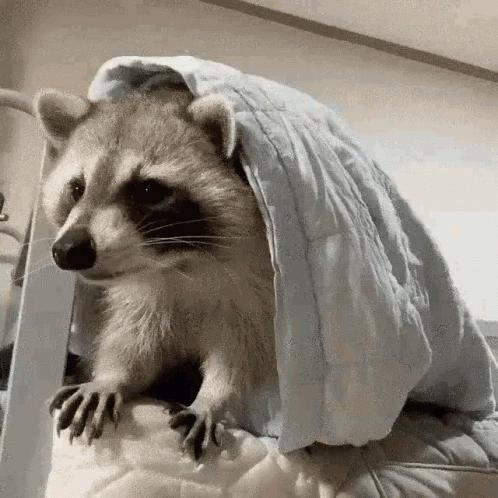raccoon: (30, 84, 274, 461)
